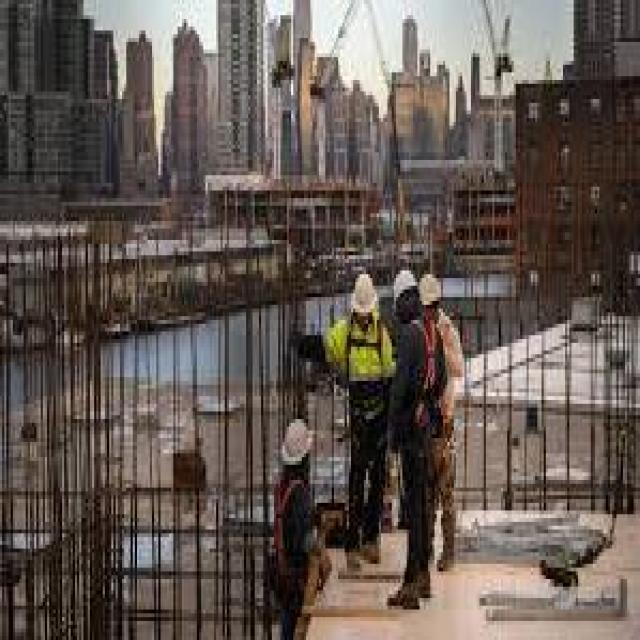Reflective-Jacket: (323, 308, 398, 442), (398, 312, 465, 458), (266, 472, 326, 598)
Safety-Helmet: (274, 412, 317, 476), (347, 263, 381, 324), (389, 259, 422, 309), (416, 267, 448, 316)
